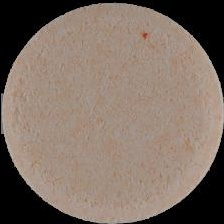42291-616: (0, 0, 224, 224)
